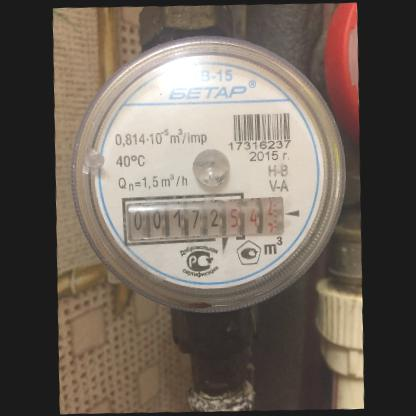digital_screen: (117, 189, 228, 247)
